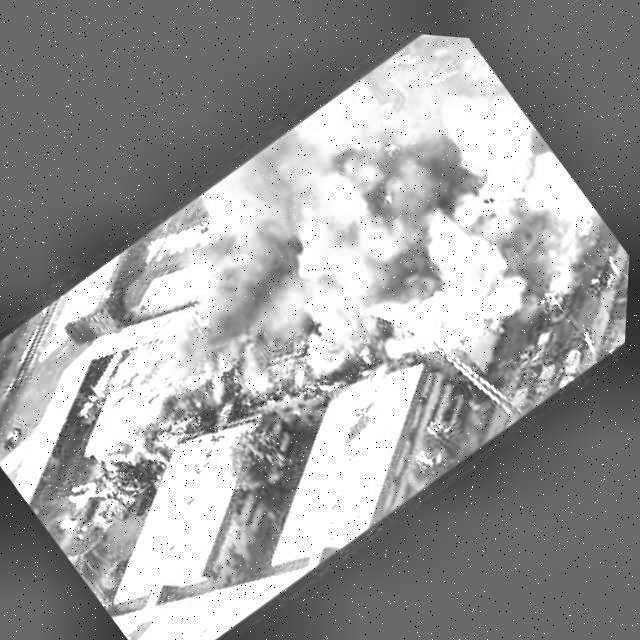Fire: (187, 317, 262, 389), (155, 397, 190, 431), (327, 308, 354, 335), (358, 298, 383, 324), (356, 334, 378, 357)
Smoke: (144, 10, 621, 462)
